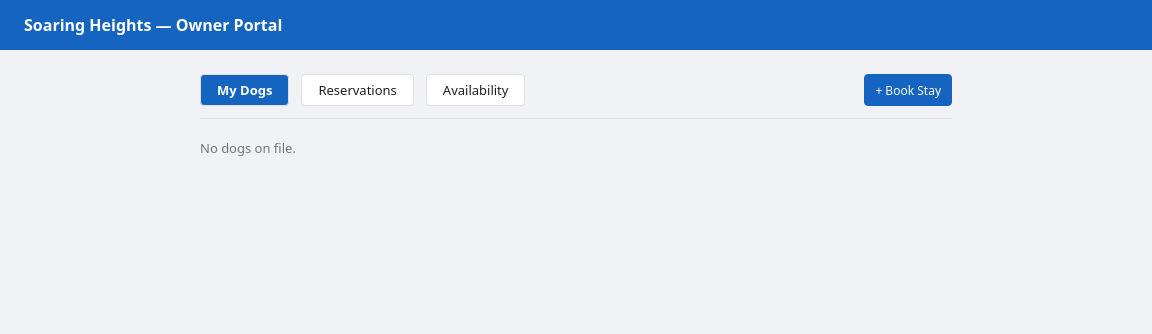
Test case: PortalHome — Availability tab › shows availability table after check
expect the button "My Dogs" is shown: met, box 200,74 -> 289,106
Step 1. Click the button "Availability" → (476, 90), box 426,74 -> 525,106
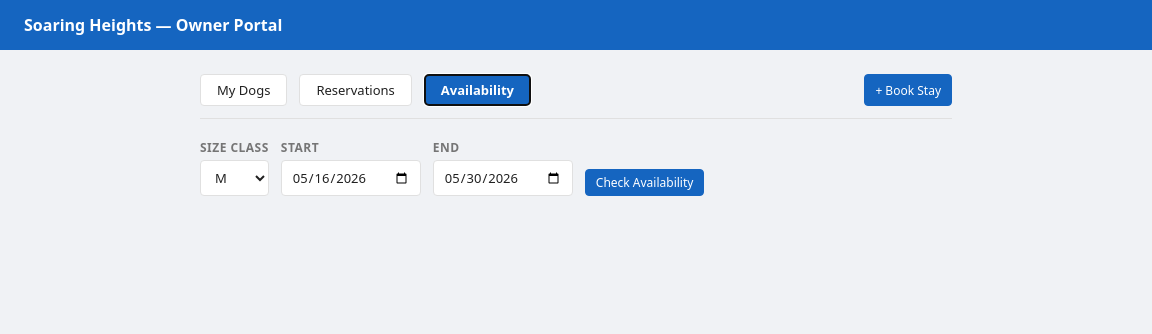
Step 2. Click the button "Check Availability" → (645, 182), box 585,169 -> 704,196
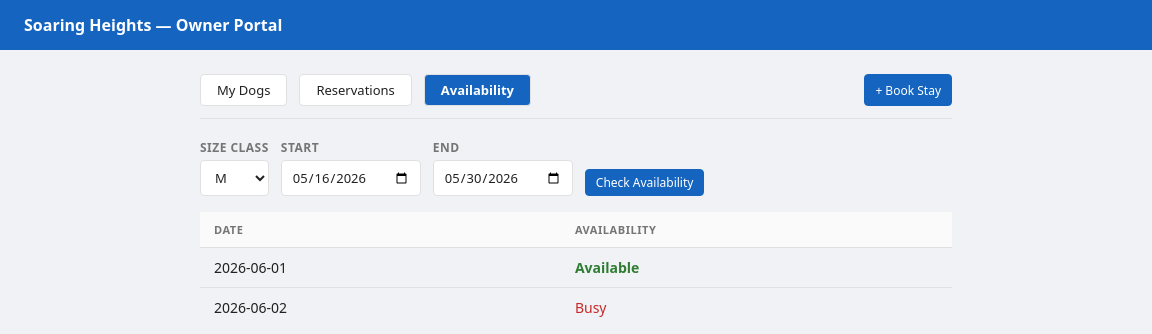
expect the text "2026-06-01" is shown: met, box 200,248 -> 561,288
expect the text "Available" is shown: met, box 575,258 -> 639,277
expect the text "Busy" is shown: met, box 575,298 -> 606,317
